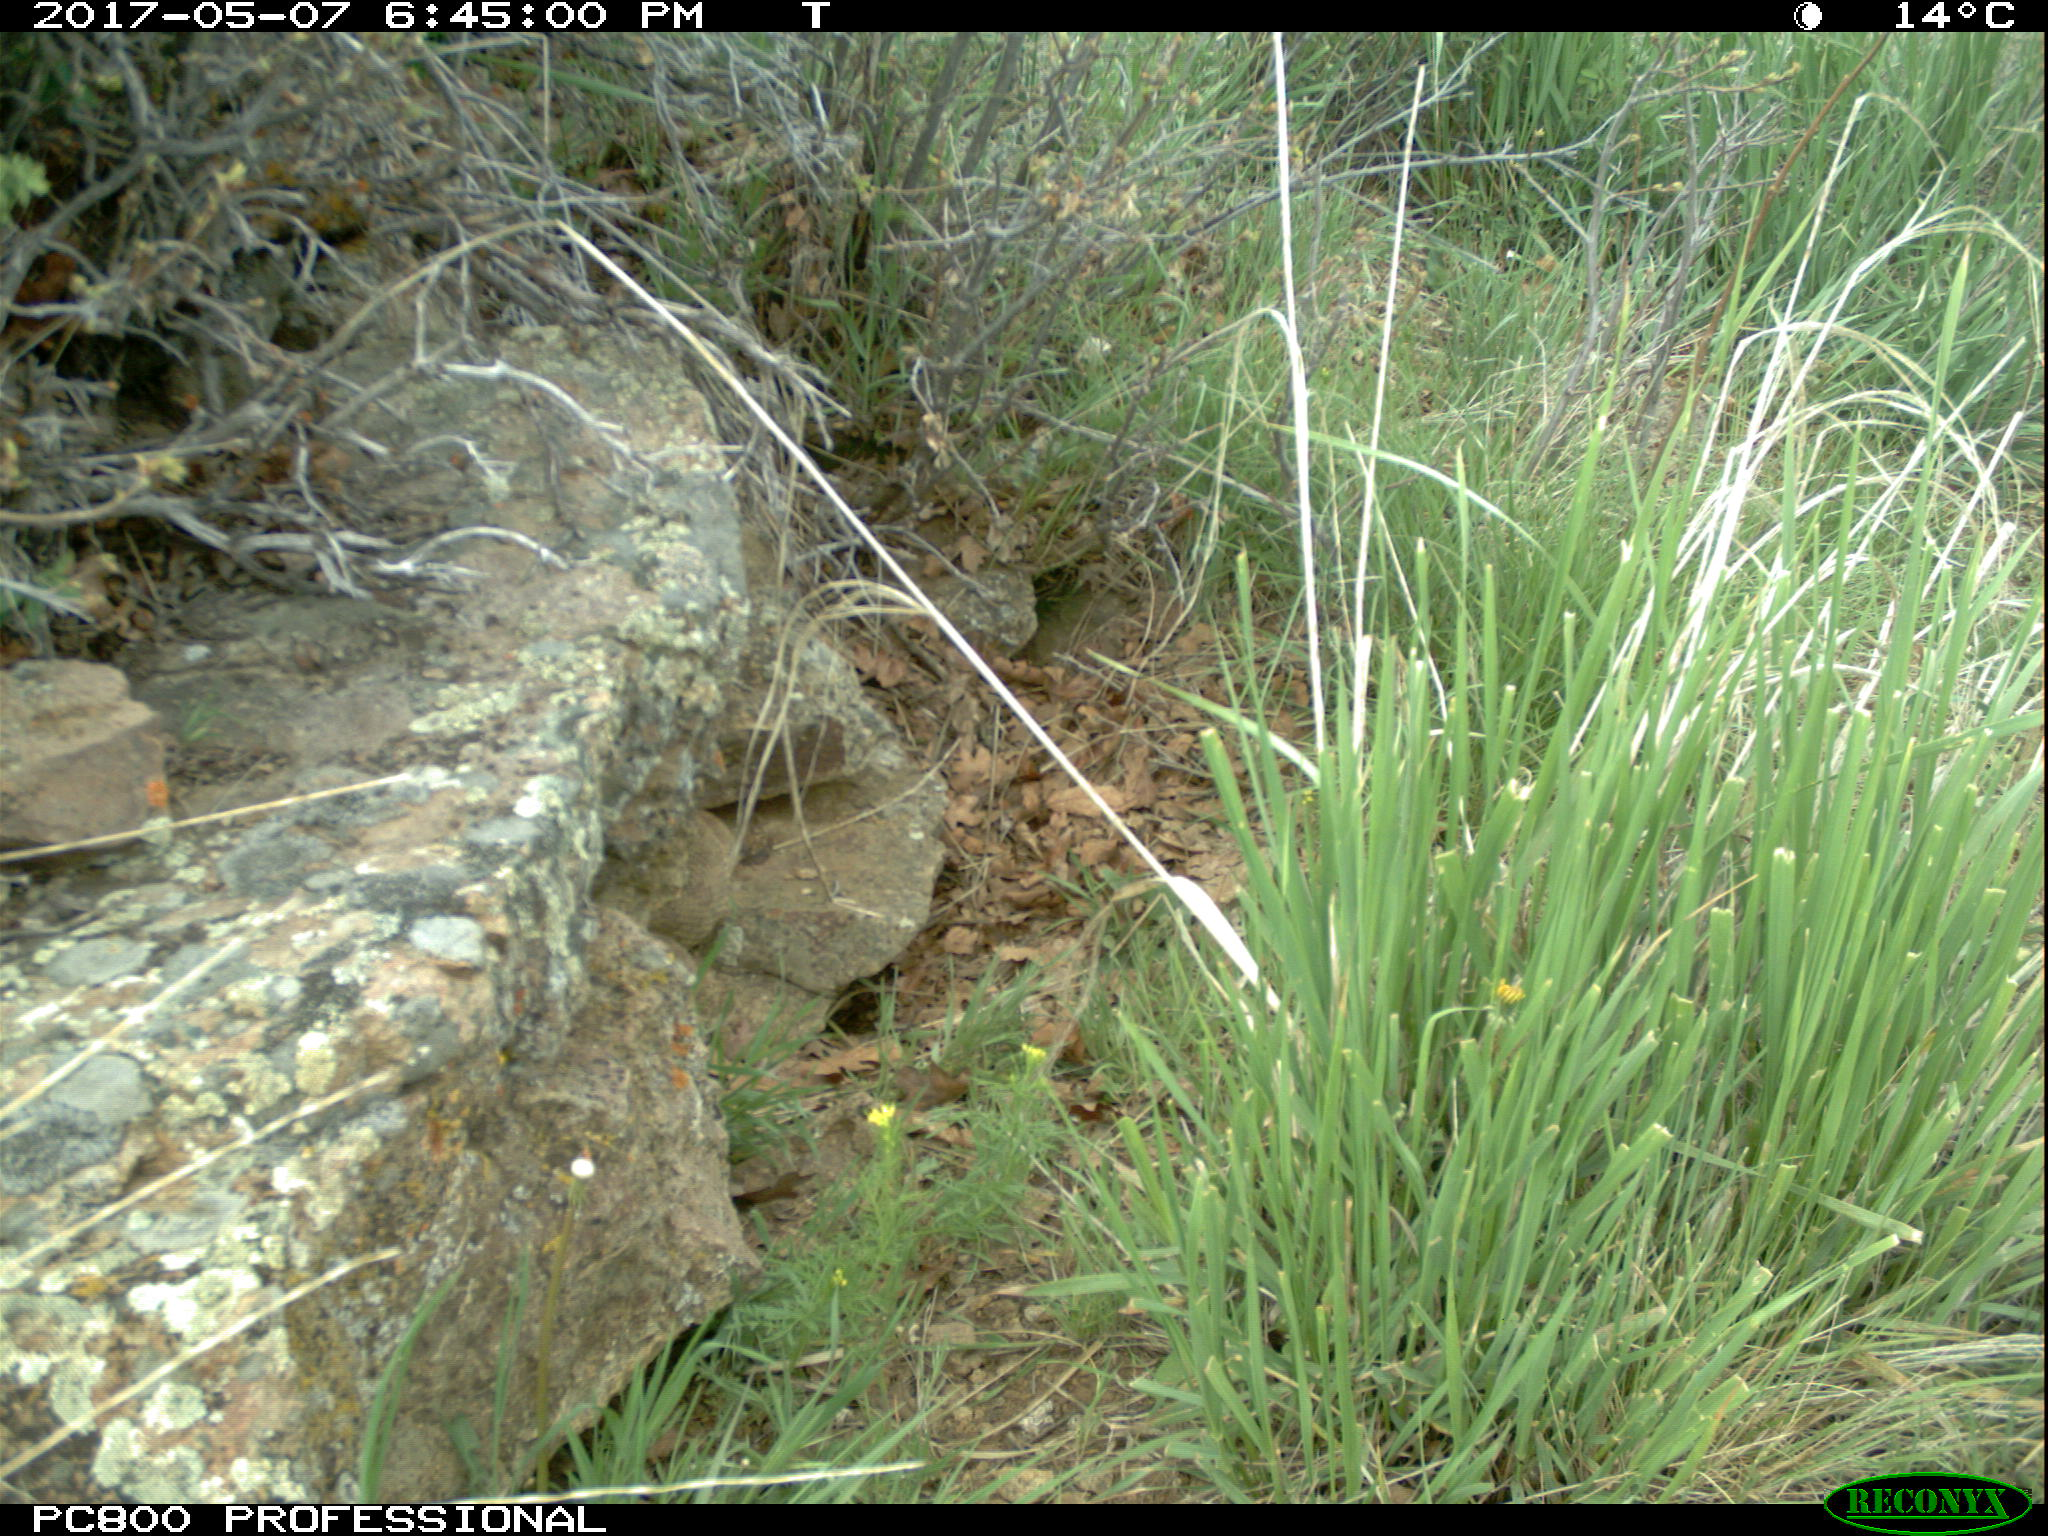snake: (656, 808, 751, 950)
